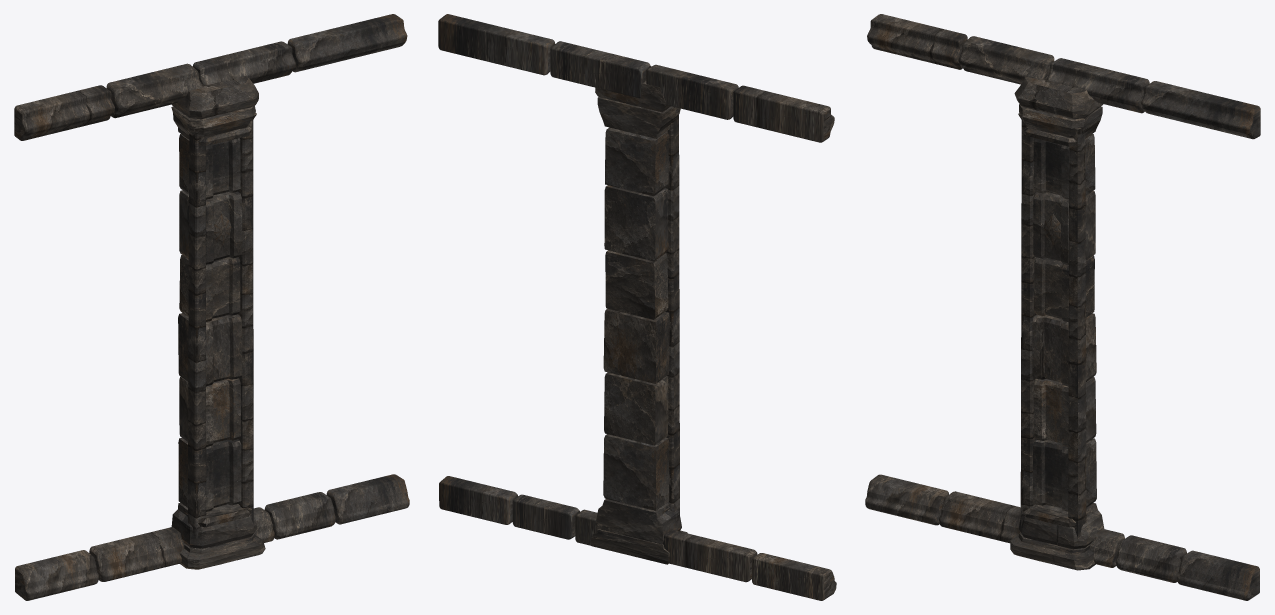
The model's file is crypt_masonry.glb.
3 renders of one model, left to right at view 1: azimuth 30°, elevation 25°; view 2: azimuth 150°, elevation 25°; view 3: azimuth 330°, elevation 25°, orthographic.
Visible parts, largest first — view 1: Pilaster, Cornice, BaseCourse; view 2: Pilaster, Cornice, BaseCourse; view 3: Pilaster, Cornice, BaseCourse.
Boxes of the visible parts, x1,y1,x2,y2 form: Pilaster: (171,76,265,569); Cornice: (14,14,407,140); BaseCourse: (15,474,409,600); Pilaster: (590,66,687,564); Cornice: (438,14,834,142); BaseCourse: (439,476,836,600); Pilaster: (1010,76,1104,570); Cornice: (867,14,1260,139); BaseCourse: (865,474,1259,600).
Size of the model in its own units: 3.4 by 4.14 by 0.4086.
Materials: 1 (1 with a texture image).
